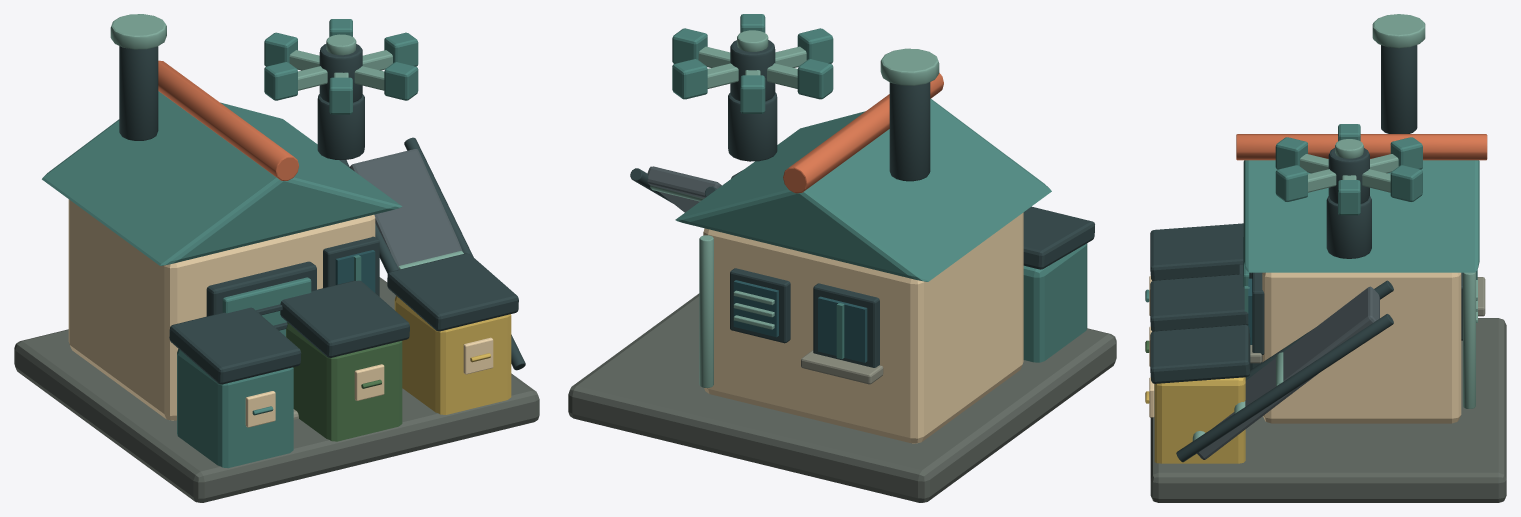
Rendered from recycler.glb.
3 renders of one model, left to right at view 1: azimuth 30°, elevation 25°; view 2: azimuth 150°, elevation 25°; view 3: azimuth 270°, elevation 25°, orthographic. The views are drawn at different scales.
Parts seen in each view (by area): view 1: recycler · copper, recycler · metal, recycler · plaster, recycler · stone_dark, recycler · crop, recycler · leaf, recycler · asphalt, recycler · copper_light, recycler · tile_light, recycler · window; view 2: recycler · copper, recycler · plaster, recycler · stone_dark, recycler · metal, recycler · copper_light, recycler · window, recycler · tile_light, recycler · asphalt, recycler · stone; view 3: recycler · stone_dark, recycler · metal, recycler · plaster, recycler · copper, recycler · copper_light, recycler · crop, recycler · asphalt, recycler · tile_light, recycler · stone.
Part boxes in pixels (x1=…): recycler · copper: x1=42, y1=19, x2=418, y2=468; recycler · metal: x1=119, y1=44, x2=525, y2=384; recycler · plaster: x1=68, y1=199, x2=493, y2=427; recycler · stone_dark: x1=14, y1=277, x2=539, y2=502; recycler · crop: x1=394, y1=295, x2=511, y2=414; recycler · leaf: x1=286, y1=322, x2=402, y2=441; recycler · asphalt: x1=349, y1=149, x2=462, y2=269; recycler · copper_light: x1=110, y1=14, x2=463, y2=269; recycler · tile_light: x1=158, y1=60, x2=298, y2=180; recycler · window: x1=335, y1=250, x2=375, y2=292; recycler · copper: x1=672, y1=14, x2=1087, y2=362; recycler · plaster: x1=703, y1=212, x2=1023, y2=443; recycler · stone_dark: x1=568, y1=293, x2=1116, y2=502; recycler · metal: x1=630, y1=40, x2=1094, y2=367; recycler · copper_light: x1=650, y1=30, x2=939, y2=387; recycler · window: x1=733, y1=280, x2=867, y2=362; recycler · tile_light: x1=783, y1=73, x2=943, y2=193; recycler · asphalt: x1=647, y1=166, x2=721, y2=212; recycler · stone: x1=801, y1=350, x2=883, y2=384; recycler · stone_dark: x1=1150, y1=318, x2=1506, y2=502; recycler · metal: x1=1150, y1=45, x2=1462, y2=462; recycler · plaster: x1=1149, y1=272, x2=1461, y2=423; recycler · copper: x1=1145, y1=124, x2=1479, y2=312; recycler · copper_light: x1=1192, y1=14, x2=1477, y2=440; recycler · crop: x1=1145, y1=377, x2=1245, y2=463; recycler · asphalt: x1=1197, y1=286, x2=1379, y2=459; recycler · tile_light: x1=1236, y1=134, x2=1487, y2=160; recycler · stone: x1=1250, y1=277, x2=1485, y2=363.
Size of the model in its own units: 0.92 by 0.9425 by 0.8728.
